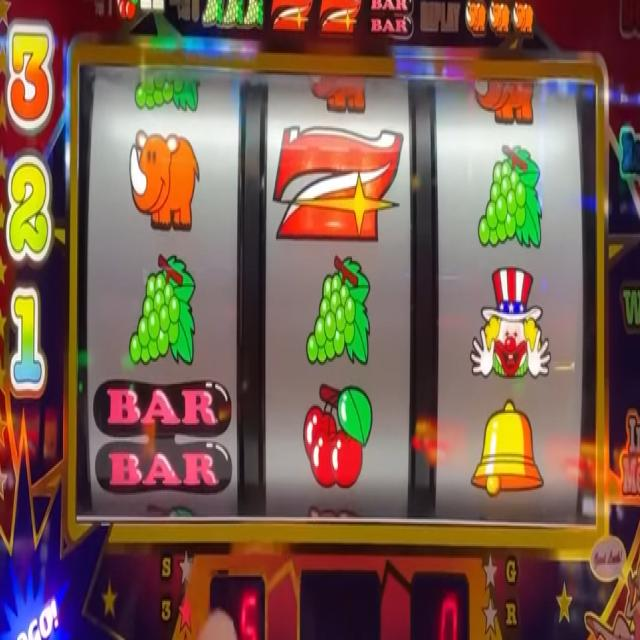bar: (91, 376, 233, 497), (365, 0, 415, 40)
bell: (470, 397, 544, 496)
cherry: (302, 378, 373, 490), (114, 0, 138, 22)
clown: (469, 264, 552, 386)
display: (75, 55, 600, 529)
elephant: (127, 125, 200, 230), (471, 78, 536, 126), (310, 71, 368, 114), (512, 1, 534, 38), (464, 2, 486, 36), (490, 1, 510, 36)
grape: (128, 254, 196, 368), (305, 254, 372, 368), (478, 139, 543, 254), (134, 69, 202, 115), (202, 0, 224, 26), (224, 0, 244, 26), (244, 2, 264, 26)
z: (272, 123, 405, 245), (268, 0, 315, 34), (318, 0, 361, 36)
